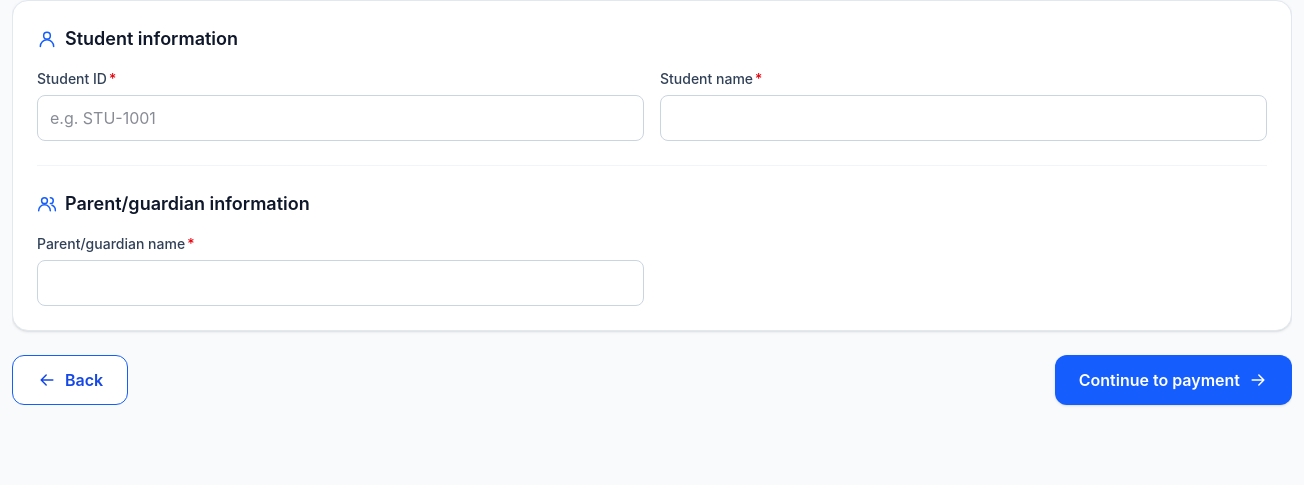
Test: RegisterForm › shows the right message when the student can't be registered (name_mismatch)
Type "STU-1001" into the field labelled "Student ID" at (340, 118), box [37, 95, 644, 141]
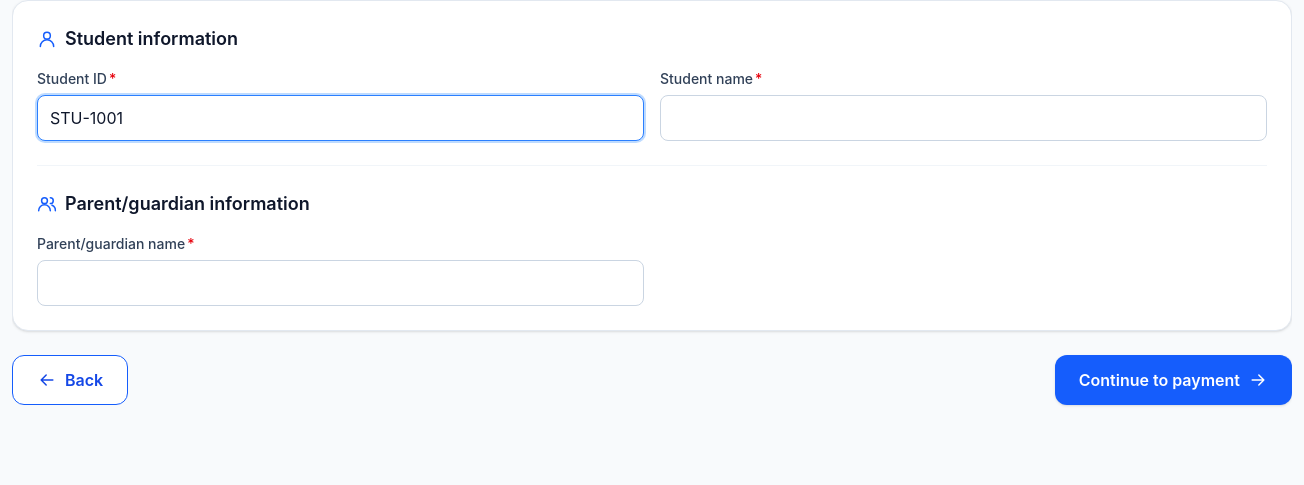
Type "Mia Smith" into the field labelled "Student name" at (964, 118), box [660, 95, 1267, 141]
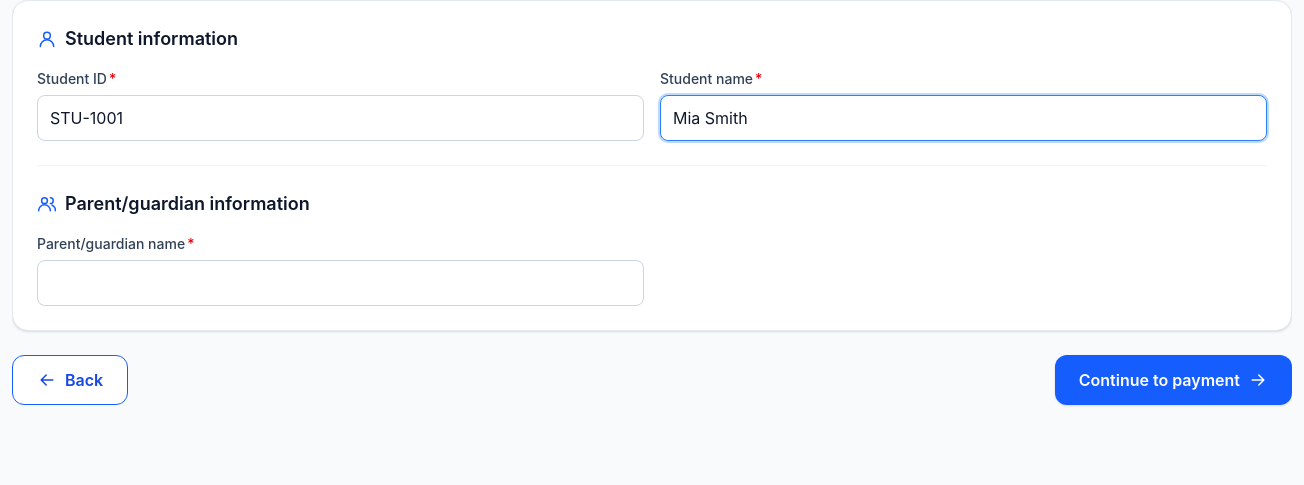
Type "Jane Smith" into the field labelled "Parent/guardian name" at (340, 283), box [37, 260, 644, 306]
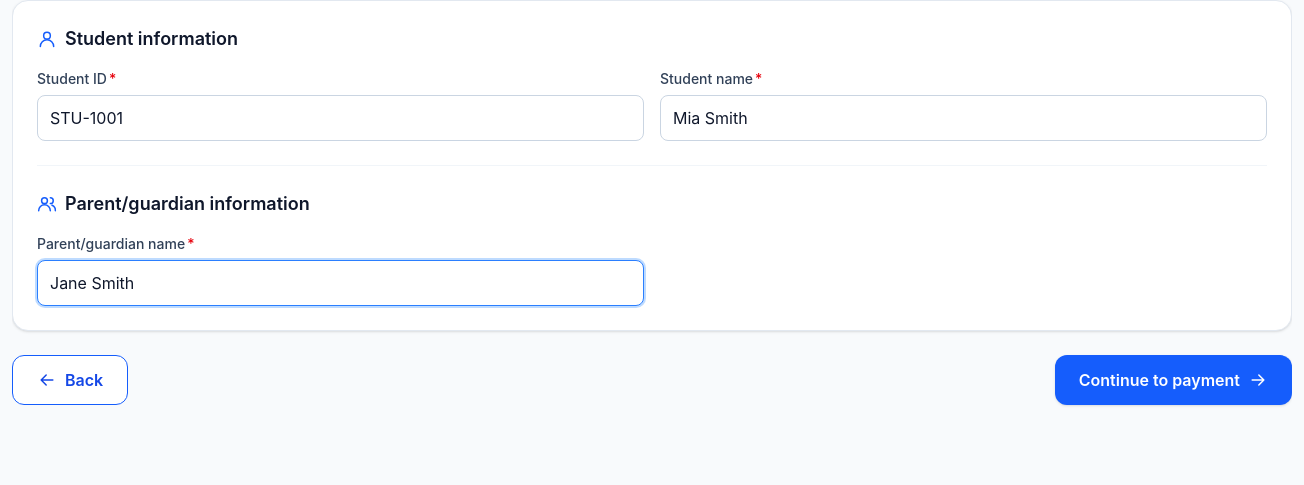
Click the button "Continue to payment" at (1173, 380), box [1055, 355, 1292, 405]
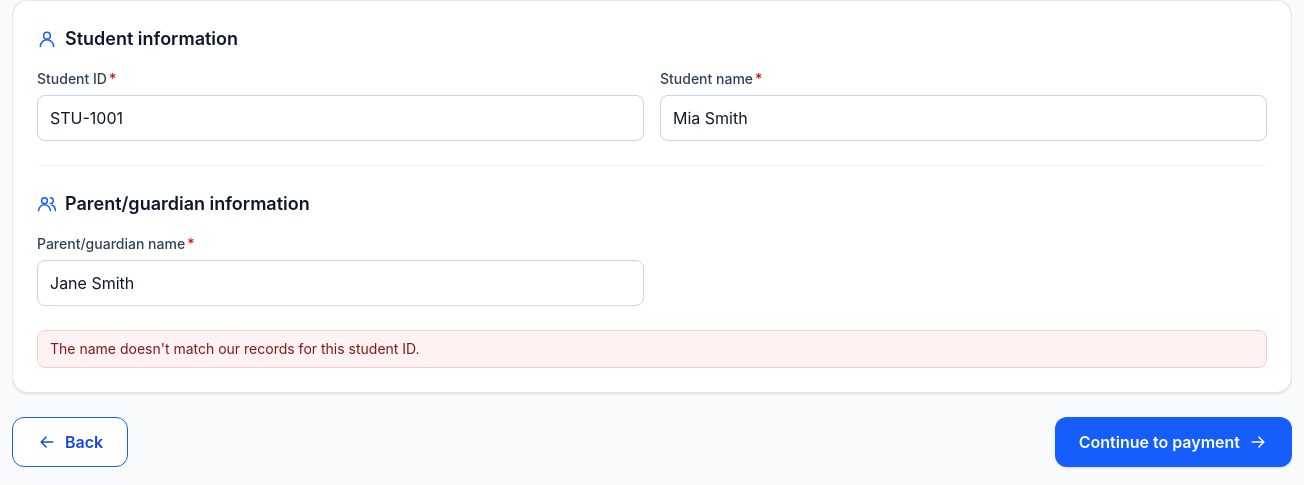
Result: the message reads "The name doesn't match our records for this student ID." at [50, 340, 420, 357]
